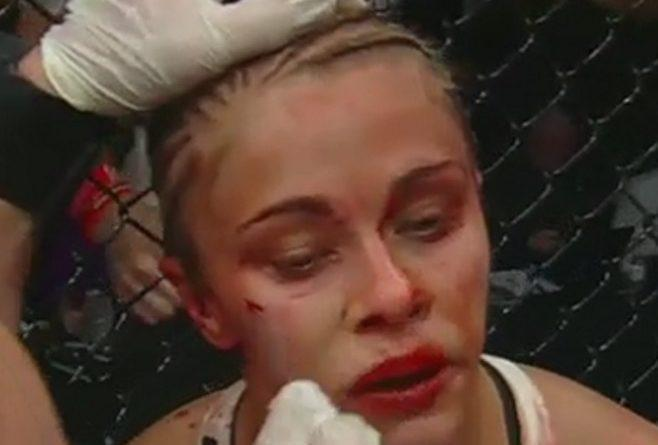Fire: (379, 165, 470, 256), (244, 299, 266, 314)
